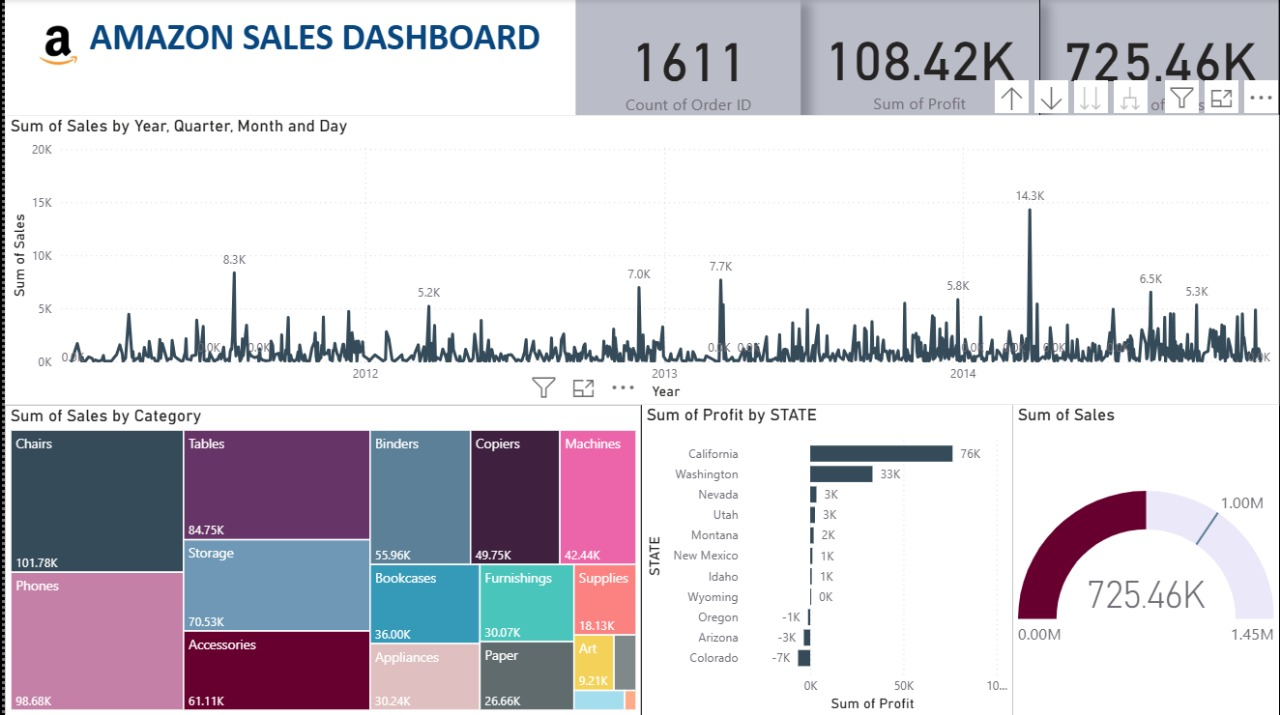

What the dashboard file says about the page in this screenshot:
{"tool":"powerbi","page":{"name":"Page 1","canvas":[1280,720],"ordinal":0},"visuals":[{"type":"card","fields":{"Values":["Sum(Walmart.Sales)"]},"box":[1039.5,0,239.6,132.8],"z":0},{"type":"card","fields":{"Values":["Sum(Walmart.Profit)"]},"box":[798.3,0,240.7,132.2],"z":1000},{"type":"card","fields":{"Values":["Count(Walmart.Order ID)"]},"box":[573.2,0,225.1,132.8],"z":2000},{"type":"lineChart","fields":{"Y":["Sum(Walmart.Sales)"],"Category":["Walmart.Order Date.Variation.Date Hierarchy.Year","Walmart.Order Date.Variation.Date Hierarchy.Quarter","Walmart.Order Date.Variation.Date Hierarchy.Month","Walmart.Order Date.Variation.Date Hierarchy.Day"]},"box":[0,116.6,1279.2,291.5],"z":3000},{"type":"treemap","fields":{"Group":["Walmart.Category"],"Values":["Sum(Walmart.Sales)"]},"box":[0,408,639.6,312.5],"z":4000},{"type":"barChart","fields":{"Category":["Walmart.STATE"],"Y":["Sum(Walmart.Profit)"]},"box":[639.6,408,372.4,312.5],"z":5000},{"type":"gauge","fields":{"Y":["Sum(Walmart.Sales)"]},"box":[1012,408,267.2,312.5],"z":6000},{"type":"textbox","box":[0,0,573.2,116.6],"z":7000},{"type":"image","box":[19.4,13,69.6,66.4],"z":8000}]}

Visuals, with their boxes on the page's 1280x720 design canvas (x1, y1, x2, y2). These are canvas units, not pixel positions in the 1280x715 screenshot, which may show the page scaled, cropped or inside an application window:
card - Sum(Walmart.Sales): <bbox>1040, 0, 1279, 133</bbox>
card - Sum(Walmart.Profit): <bbox>798, 0, 1039, 132</bbox>
card - Count(Walmart.Order ID): <bbox>573, 0, 798, 133</bbox>
lineChart - Sum(Walmart.Sales) x Walmart.Order Date.Variation.Date Hierarchy.Year: <bbox>0, 117, 1279, 408</bbox>
treemap - Walmart.Category x Sum(Walmart.Sales): <bbox>0, 408, 640, 720</bbox>
barChart - Walmart.STATE x Sum(Walmart.Profit): <bbox>640, 408, 1012, 720</bbox>
gauge - Sum(Walmart.Sales): <bbox>1012, 408, 1279, 720</bbox>
textbox: <bbox>0, 0, 573, 117</bbox>
image: <bbox>19, 13, 89, 79</bbox>
